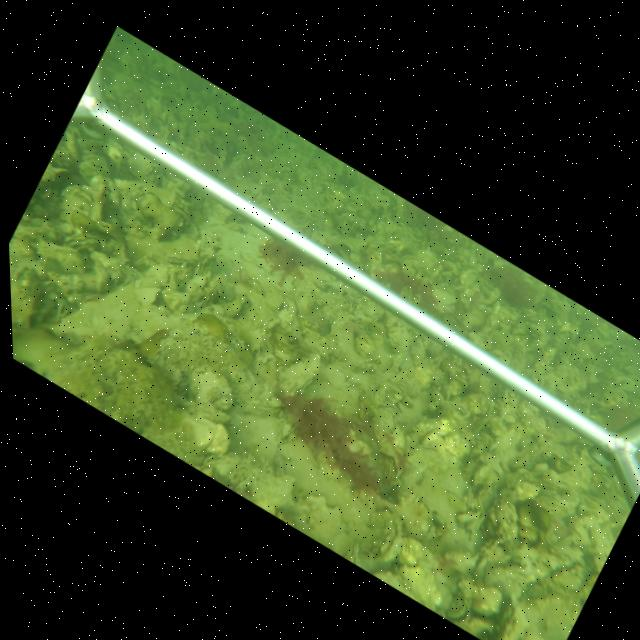Oyster-Closed: (275, 355, 323, 401), (374, 511, 406, 565), (61, 233, 121, 255), (371, 375, 408, 407), (375, 451, 398, 491)
Oyster-Open: (446, 597, 472, 624)
